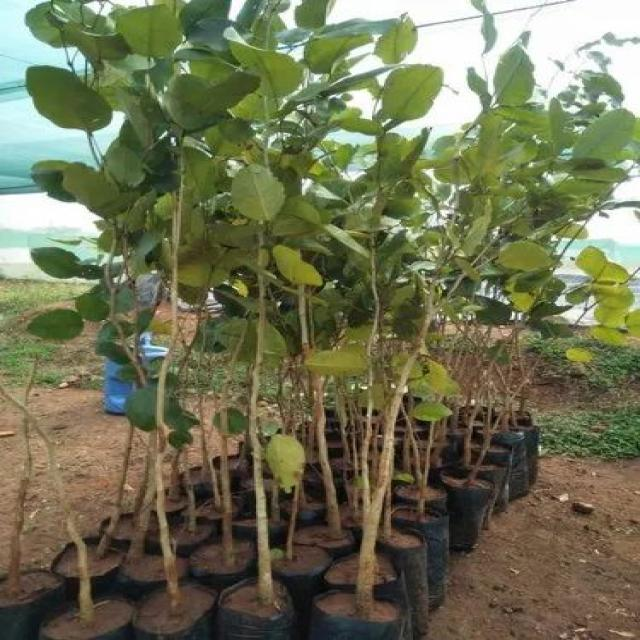Medicinal-Sandalwood: (10, 0, 640, 563)
